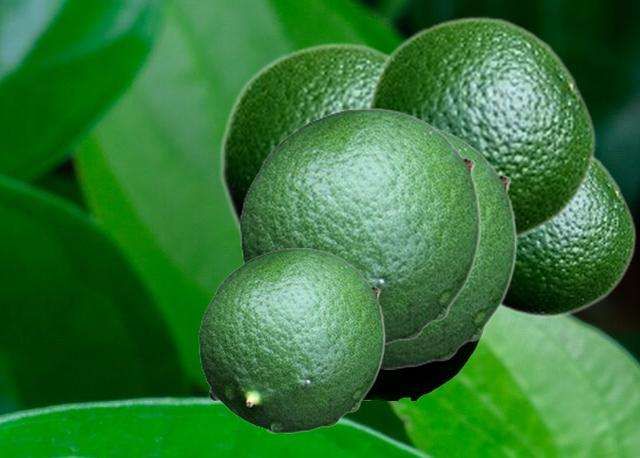calamansi: (239, 107, 480, 347), (363, 15, 596, 243), (218, 41, 389, 243), (198, 247, 384, 432), (381, 124, 516, 368), (501, 155, 636, 318), (364, 328, 486, 399)
